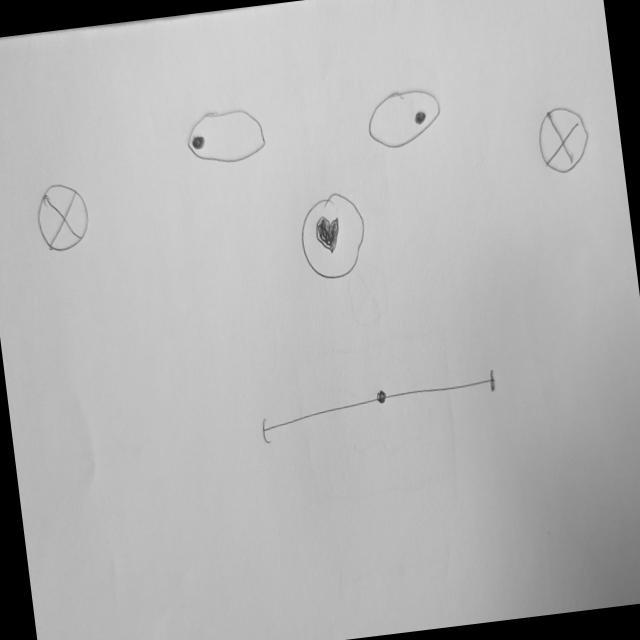icon-button: (295, 187, 374, 287)
image: (33, 178, 96, 259), (533, 101, 597, 180)
slider: (253, 365, 506, 454)
toggle: (362, 84, 447, 157), (182, 104, 271, 171)
